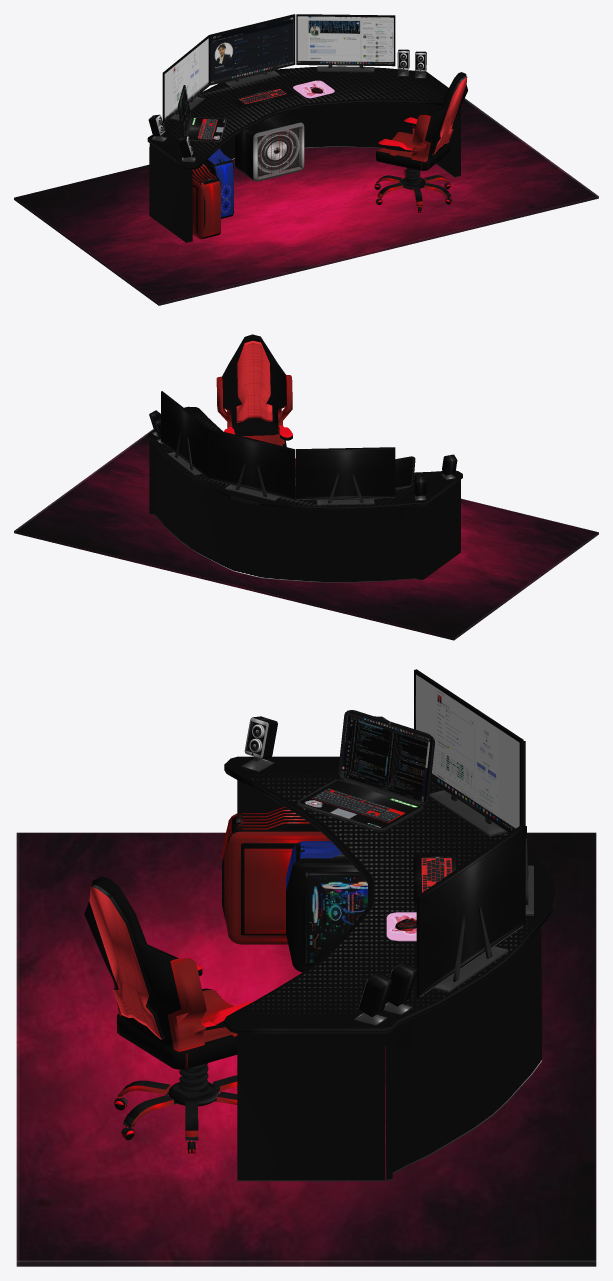
The picture shows the model from 3 angles, top to bottom: view 1: azimuth 30°, elevation 25°; view 2: azimuth 150°, elevation 25°; view 3: azimuth 270°, elevation 25°; orthographic projection. The views are drawn at different scales.
Visible parts, largest first — view 1: MAT-0_6, DESK-0_5, CHAIR-0_2, 3PIC-0_10, 2PIC-0_8, BASS-0_11, SCREEN-0_7, 1PIC-0_9, 1COMPUTER-0_4, LAPTOP-0_13, SPEAKER-0_12, COMPUTER-0_3 (+2 smaller); view 2: MAT-0_6, DESK-0_5, SCREEN-0_7, CHAIR-0_2, SPEAKER-0_12, LAPTOP-0_13; view 3: MAT-0_6, DESK-0_5, CHAIR-0_2, SCREEN-0_7, LAPTOP-0_13, 1COMPUTER-0_4, 1PIC-0_9, COMPUTER-0_3, SPEAKER-0_12, 2KB-0_14.
Boxes of the visible parts, bbox=[...] form: MAT-0_6: bbox=[14, 98, 598, 305]; DESK-0_5: bbox=[147, 66, 460, 242]; CHAIR-0_2: bbox=[374, 72, 467, 212]; 3PIC-0_10: bbox=[297, 16, 393, 64]; 2PIC-0_8: bbox=[210, 16, 293, 83]; BASS-0_11: bbox=[235, 112, 304, 181]; SCREEN-0_7: bbox=[162, 14, 395, 123]; 1PIC-0_9: bbox=[164, 38, 208, 120]; 1COMPUTER-0_4: bbox=[192, 164, 220, 239]; LAPTOP-0_13: bbox=[177, 85, 226, 142]; SPEAKER-0_12: bbox=[148, 49, 426, 162]; COMPUTER-0_3: bbox=[203, 148, 233, 218]; MAT-0_6: bbox=[14, 429, 598, 640]; DESK-0_5: bbox=[147, 406, 462, 582]; SCREEN-0_7: bbox=[161, 391, 395, 505]; CHAIR-0_2: bbox=[216, 334, 292, 446]; SPEAKER-0_12: bbox=[149, 410, 457, 500]; LAPTOP-0_13: bbox=[395, 456, 415, 490]; MAT-0_6: bbox=[16, 832, 596, 1266]; DESK-0_5: bbox=[224, 756, 556, 1181]; CHAIR-0_2: bbox=[84, 876, 253, 1153]; SCREEN-0_7: bbox=[414, 669, 533, 997]; LAPTOP-0_13: bbox=[297, 710, 434, 831]; 1COMPUTER-0_4: bbox=[222, 806, 330, 944]; 1PIC-0_9: bbox=[416, 674, 519, 831]; COMPUTER-0_3: bbox=[286, 841, 367, 972]; SPEAKER-0_12: bbox=[241, 716, 417, 1025]; 2KB-0_14: bbox=[413, 852, 455, 905].
Bounding box in the file's own units: 93.44 × 27.72 × 53.3.
Materials: 27 (25 with a texture image).
